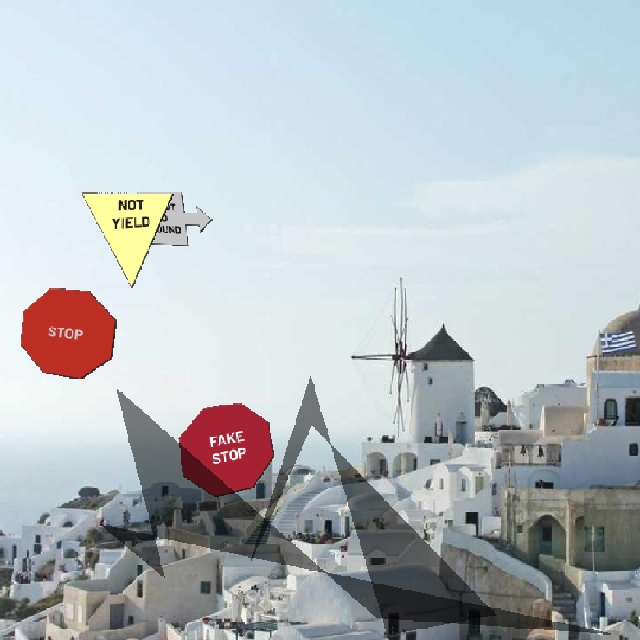DO_NOT_GO_AROUND: (115, 191, 211, 245)
FAKE_STOP: (177, 401, 273, 496)
NOT_YIELD: (80, 192, 172, 287)
STOP: (19, 287, 115, 378)
